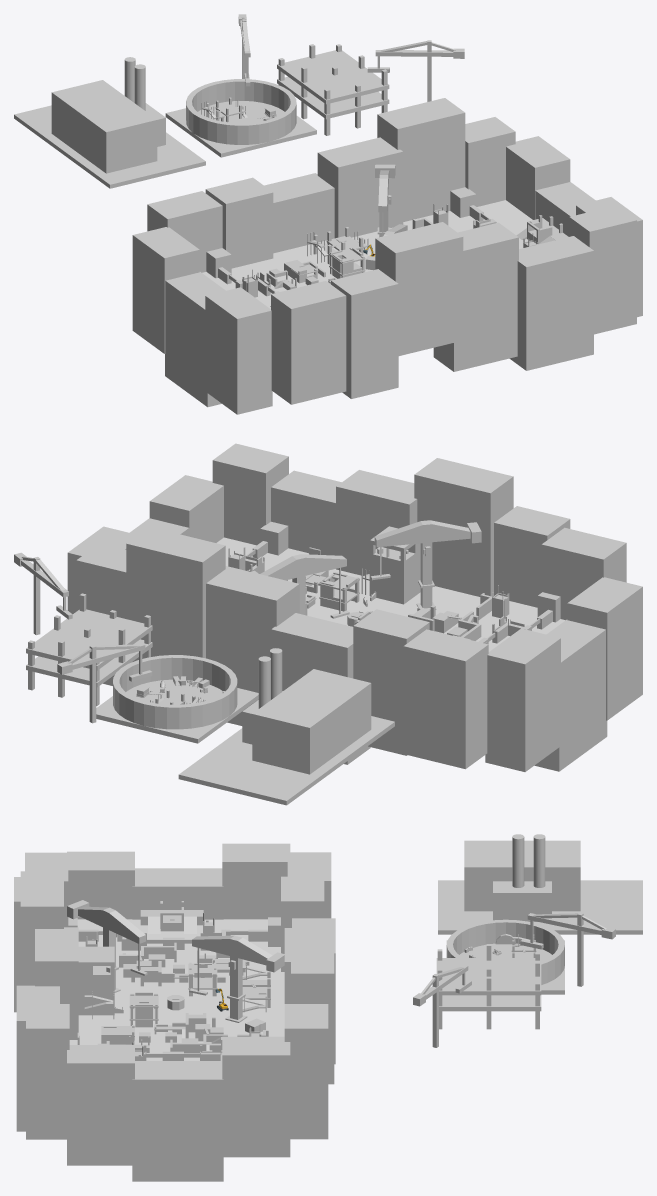
Rendered from testArenaBlockout.fbx.
3 views of the same model, one above another, from view 1: azimuth 30°, elevation 25°; view 2: azimuth 150°, elevation 25°; view 3: azimuth 270°, elevation 25° (orthographic). The views are drawn at different scales.
Visible parts, largest first — view 1: backgroundFactory, Cube.014, Cube.016, Cube.018, Cube.017, Cube.042, Cube.011, hubWalls, Cube.015, Cube.012, Cube.013, backgroundBuilding (+18 smaller); view 2: backgroundFactory, Cube.019, Cube.011, Cube.043, Cube.016, hubWalls, Cube.012, Cube.044, backgroundBuilding, Cube.042, Cube.008, Cube.017 (+19 smaller); view 3: backgroundFactory, Cube.047, Floor, Cube.046, Cube.045, Cube.013, backgroundBuilding, Cube.010, Cube.043, hubWalls, Cube.044, Cube.042 (+24 smaller).
Boxes of the visible parts, bbox=[...] form: backgroundFactory: bbox=[14, 57, 205, 188]; Cube.014: bbox=[509, 236, 593, 370]; Cube.016: bbox=[375, 222, 463, 355]; Cube.018: bbox=[271, 281, 346, 404]; Cube.017: bbox=[433, 222, 518, 371]; Cube.042: bbox=[205, 287, 272, 414]; Cube.011: bbox=[377, 98, 465, 221]; hubWalls: bbox=[165, 79, 316, 157]; Cube.015: bbox=[331, 269, 398, 398]; Cube.012: bbox=[317, 137, 403, 238]; Cube.013: bbox=[569, 205, 636, 334]; backgroundBuilding: bbox=[277, 44, 389, 135]; backgroundFactory: bbox=[178, 648, 394, 805]; Cube.019: bbox=[403, 629, 488, 769]; Cube.011: bbox=[126, 527, 225, 661]; Cube.043: bbox=[485, 628, 560, 771]; Cube.016: bbox=[414, 458, 513, 596]; hubWalls: bbox=[96, 655, 258, 743]; Cube.012: bbox=[206, 566, 299, 725]; Cube.044: bbox=[534, 619, 607, 771]; backgroundBuilding: bbox=[26, 593, 152, 705]; Cube.042: bbox=[567, 577, 642, 720]; Cube.008: bbox=[353, 609, 429, 755]; Cube.017: bbox=[336, 470, 417, 575]; backgroundFactory: bbox=[438, 834, 642, 934]; Cube.047: bbox=[132, 1061, 223, 1181]; Floor: bbox=[69, 919, 284, 1060]; Cube.046: bbox=[222, 1036, 290, 1157]; Cube.045: bbox=[67, 1045, 134, 1165]; Cube.013: bbox=[26, 1004, 69, 1139]; backgroundBuilding: bbox=[436, 944, 541, 1029]; Cube.010: bbox=[284, 1004, 328, 1139]; Cube.043: bbox=[222, 843, 290, 919]; hubWalls: bbox=[446, 919, 564, 994]; Cube.044: bbox=[132, 868, 223, 919]; Cube.042: bbox=[67, 851, 134, 919].
Bounding box in the file's own units: 21168 × 9002 × 26591.
